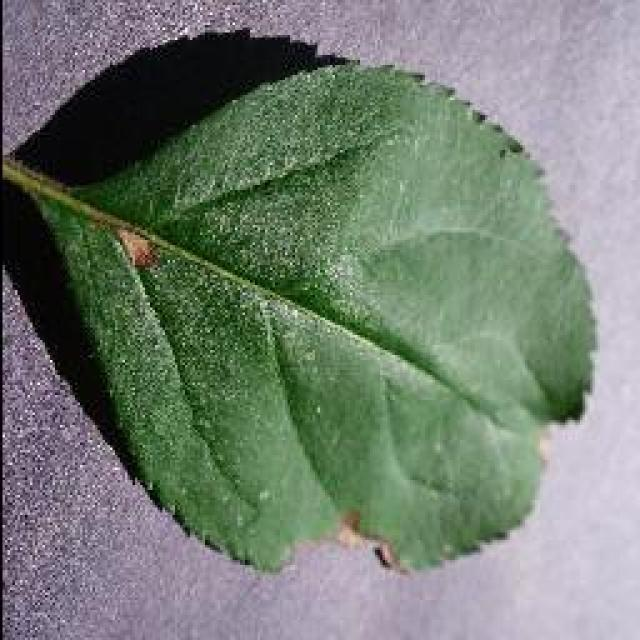Black_rot: (2, 25, 598, 575)
